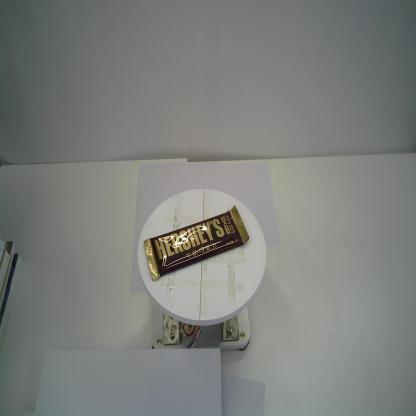Chocolate: (142, 206, 250, 285)
